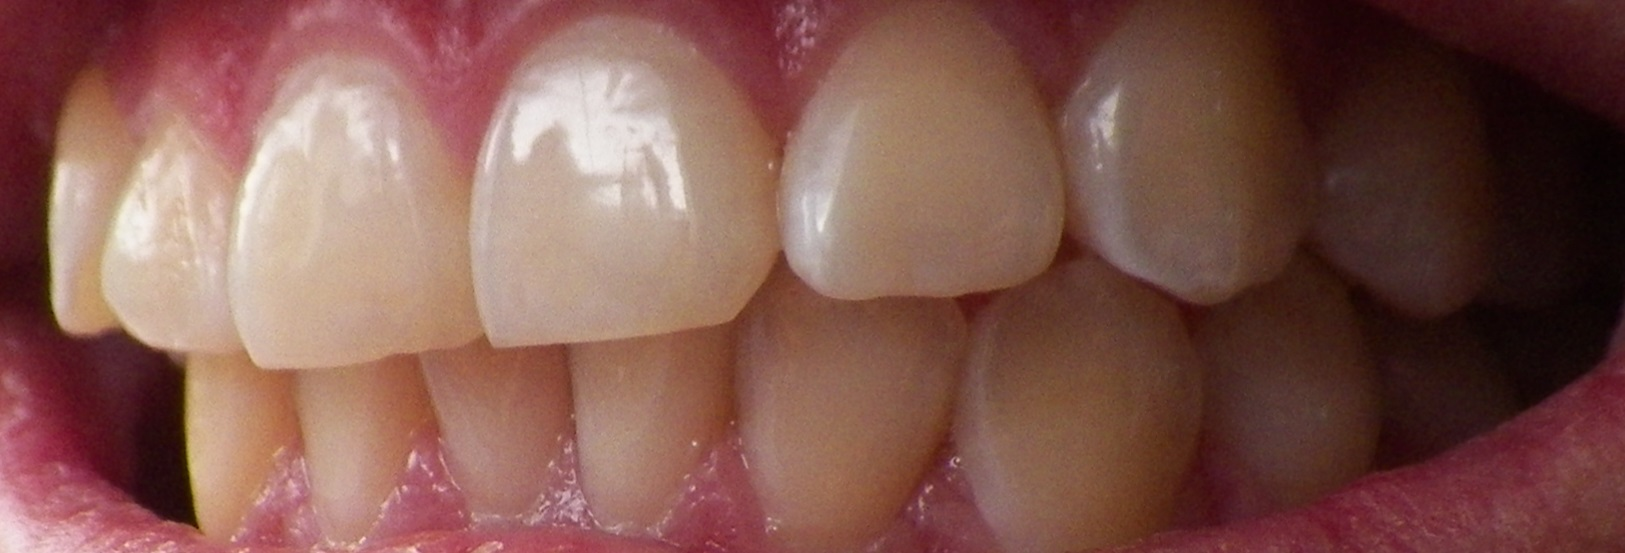boca: (15, 49, 1535, 517)
